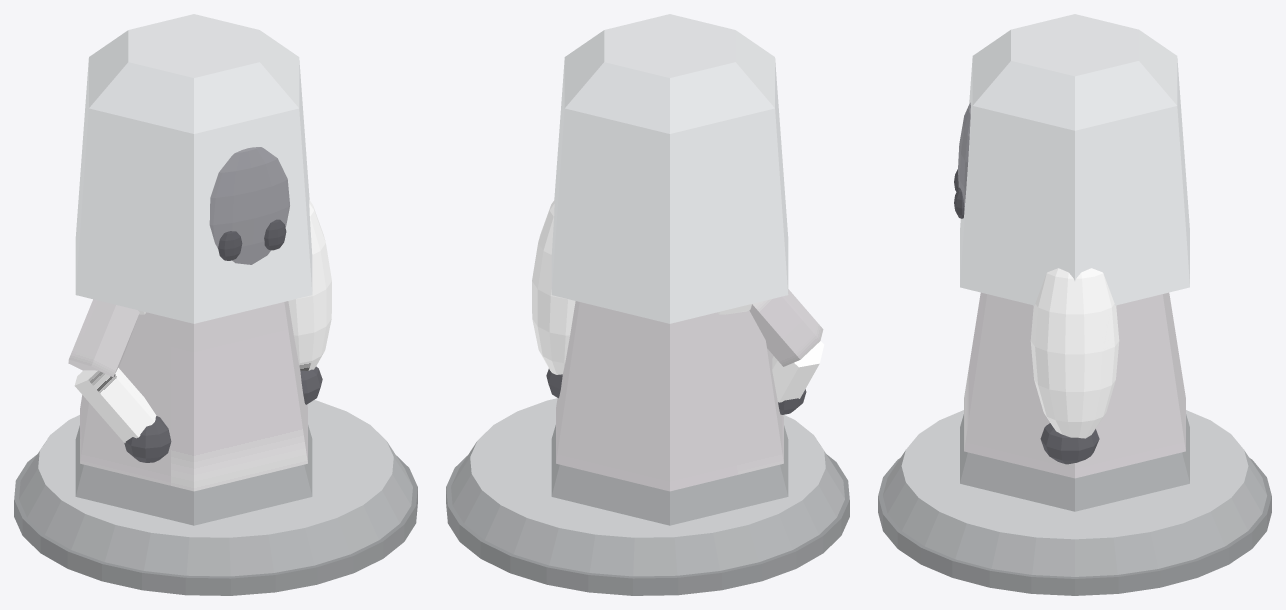
File: Building_SculptureTerror__D.glb
The picture shows the model from 3 angles, left to right: view 1: azimuth 30°, elevation 25°; view 2: azimuth 150°, elevation 25°; view 3: azimuth 270°, elevation 25°; orthographic projection. The views are drawn at different scales.
Visible parts, largest first — view 1: SculptureTerror__D; view 2: SculptureTerror__D; view 3: SculptureTerror__D.
Boxes of the visible parts, x1,y1,x2,y2 form: SculptureTerror__D: (14,14,417,595); SculptureTerror__D: (446,14,849,595); SculptureTerror__D: (878,14,1271,595).
Size of the model in its own units: 0.84 by 1.08 by 0.84.
Materials: 1 (1 with a texture image).
